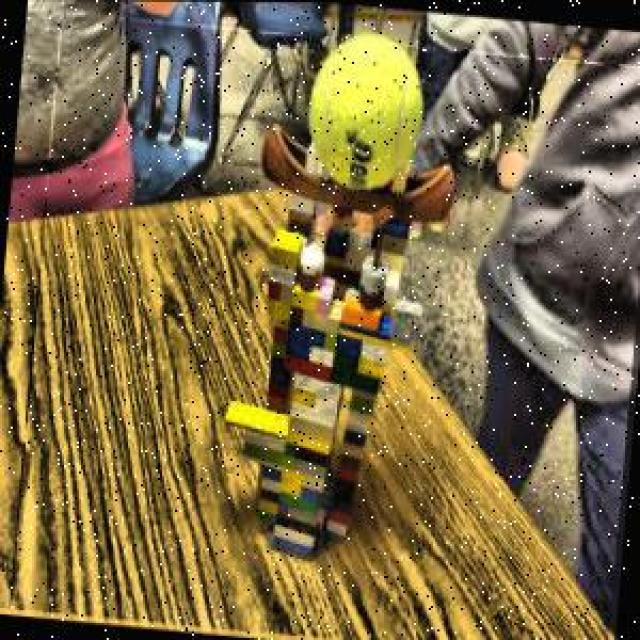tennis-ball: (300, 28, 430, 198)
